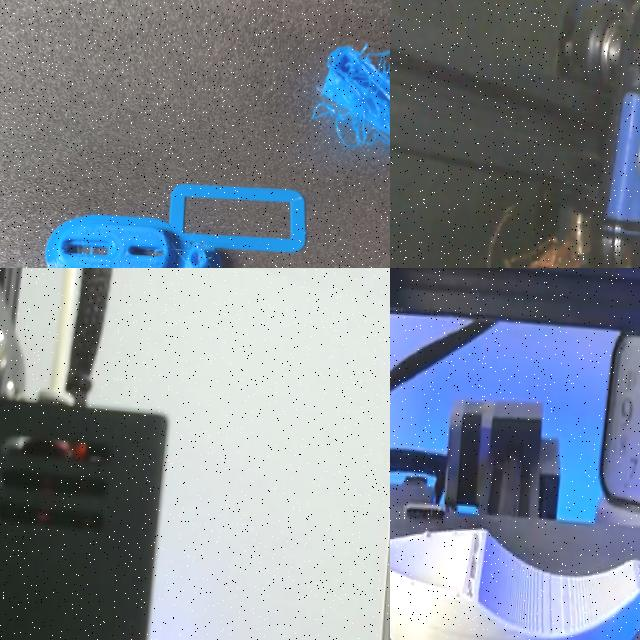spaghetti: (270, 11, 390, 156)
